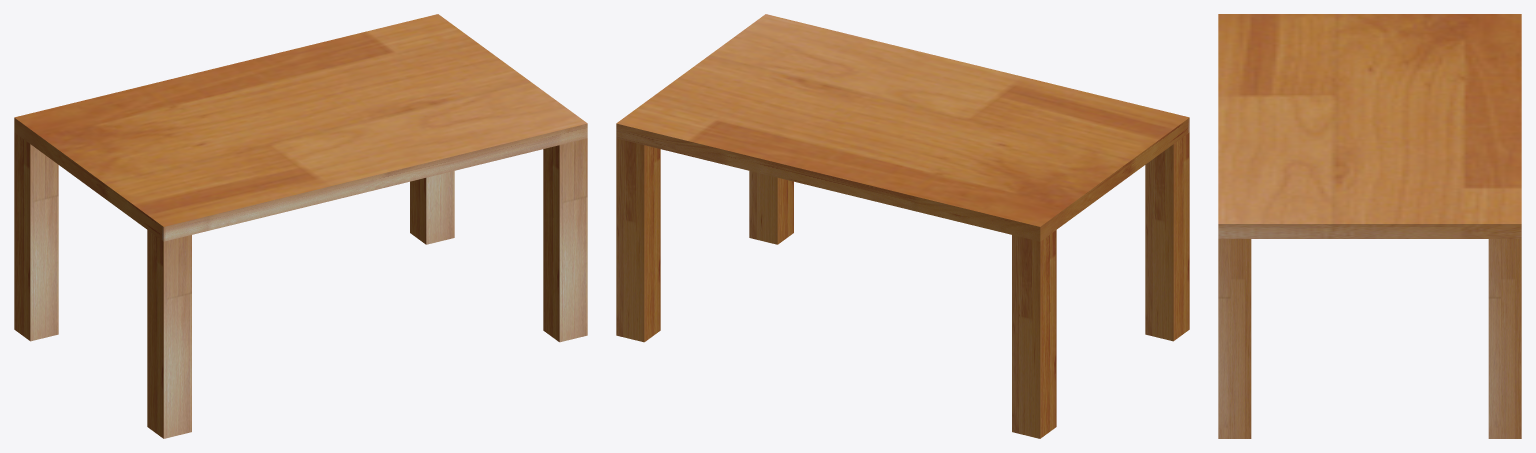
3 views of the same model, side by side, from view 1: azimuth 30°, elevation 25°; view 2: azimuth 150°, elevation 25°; view 3: azimuth 270°, elevation 25° (orthographic).
Parts seen in each view (by area): view 1: mesa, pata3, pata2, pata4, pata1; view 2: mesa, pata4, pata1, pata3, pata2; view 3: mesa, pata2, pata1.
Boxes of the visible parts, x1,y1,x2,y2 form: mesa: [14, 14, 587, 241]; pata3: [147, 230, 191, 438]; pata2: [543, 138, 587, 342]; pata4: [14, 132, 58, 341]; pata1: [410, 171, 454, 244]; mesa: [616, 14, 1189, 241]; pata4: [1012, 230, 1056, 438]; pata1: [616, 138, 660, 342]; pata3: [1145, 132, 1189, 341]; pata2: [749, 171, 793, 244]; mesa: [1218, 14, 1521, 238]; pata2: [1218, 239, 1251, 438]; pata1: [1488, 239, 1521, 438].
Bounding box in the file's own units: 0.9 × 0.55 × 0.43.
1 material, 1 textured.
